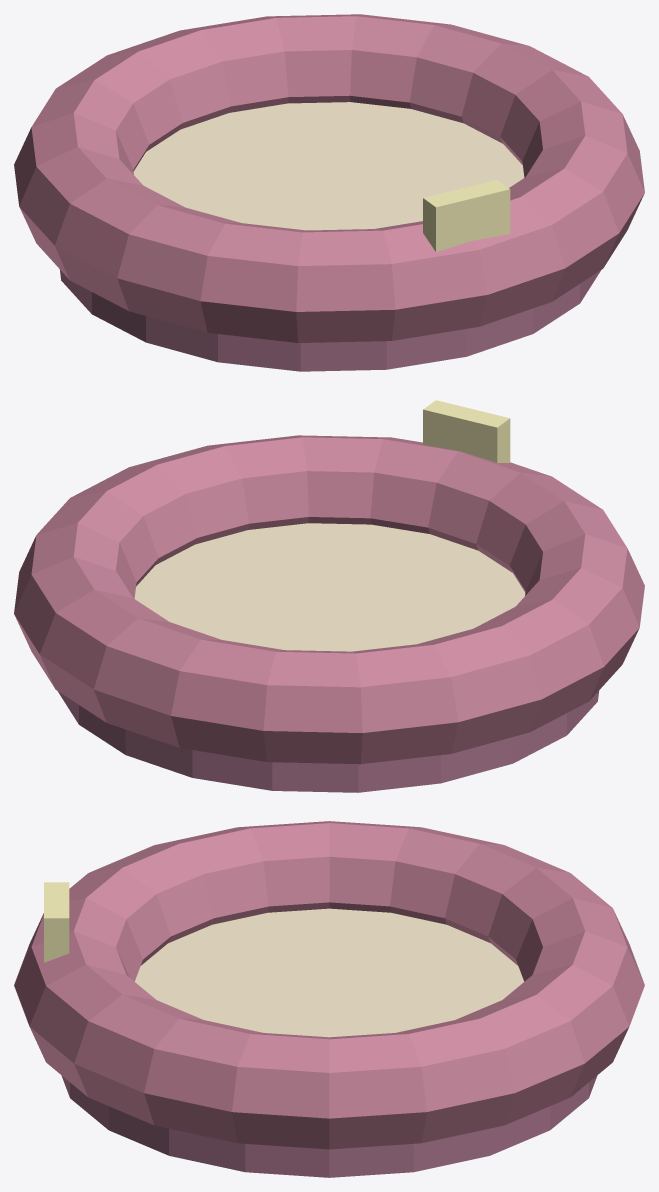
File: cat_bed.glb
3 views of the same model, one above another, from view 1: azimuth 30°, elevation 25°; view 2: azimuth 150°, elevation 25°; view 3: azimuth 270°, elevation 25° (orthographic).
Parts seen in each view (by area): view 1: CatBed; view 2: CatBed; view 3: CatBed.
Boxes of the visible parts, x1=… form: CatBed: x1=14, y1=14, x2=644, y2=371; CatBed: x1=14, y1=400, x2=644, y2=792; CatBed: x1=14, y1=821, x2=644, y2=1177.
Bounding box in the file's own units: 0.74 × 0.21 × 0.74.
